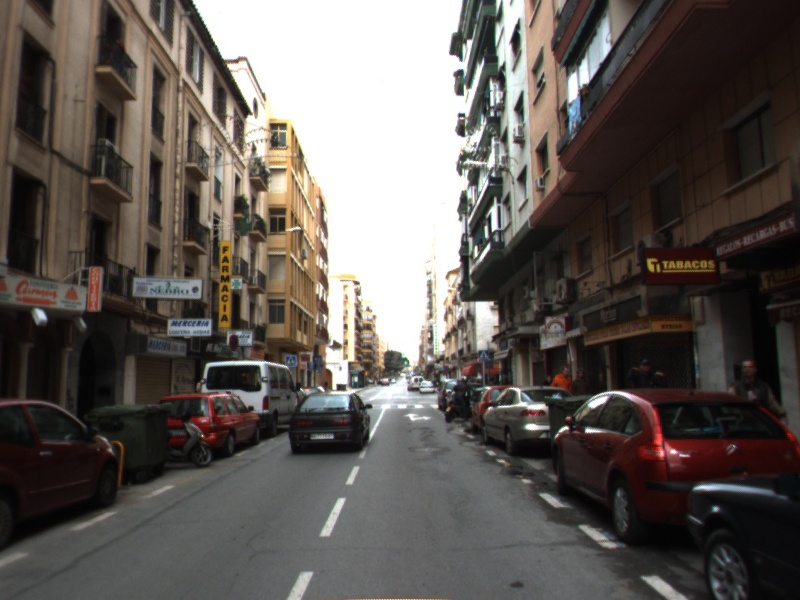STRAIGHT_RIGHT: (401, 411, 434, 423)
